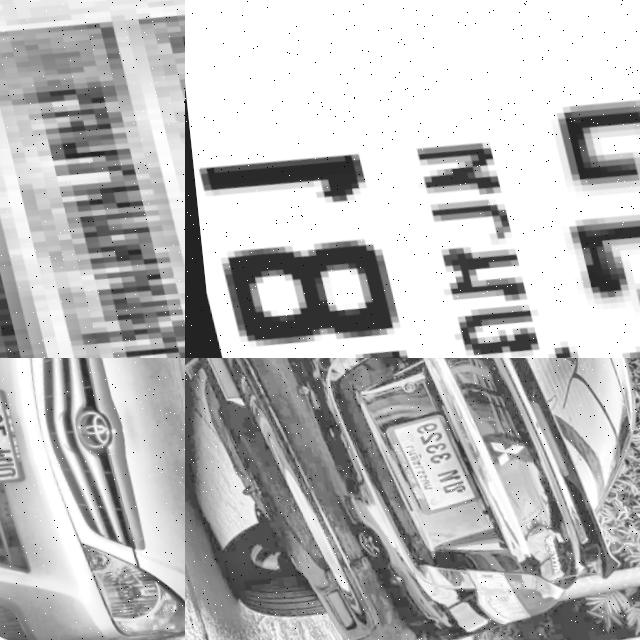license-plate: (185, 0, 640, 358), (0, 0, 185, 358), (363, 399, 483, 519), (0, 383, 21, 488)
